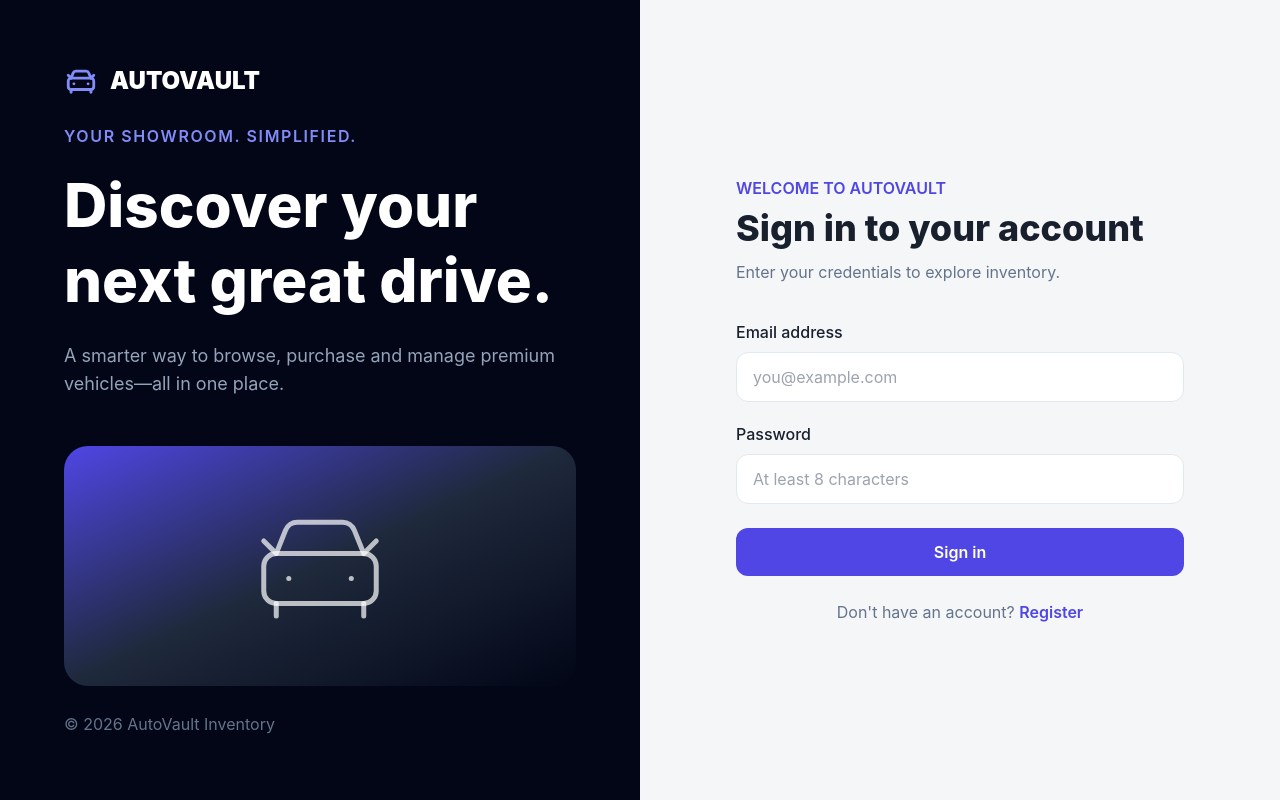
Test case: shows a useful error when login fails
The image size is (1280, 800).
Type "user@example.com" into the field labelled "Email address" at (960, 377), box [736,352,1184,402]
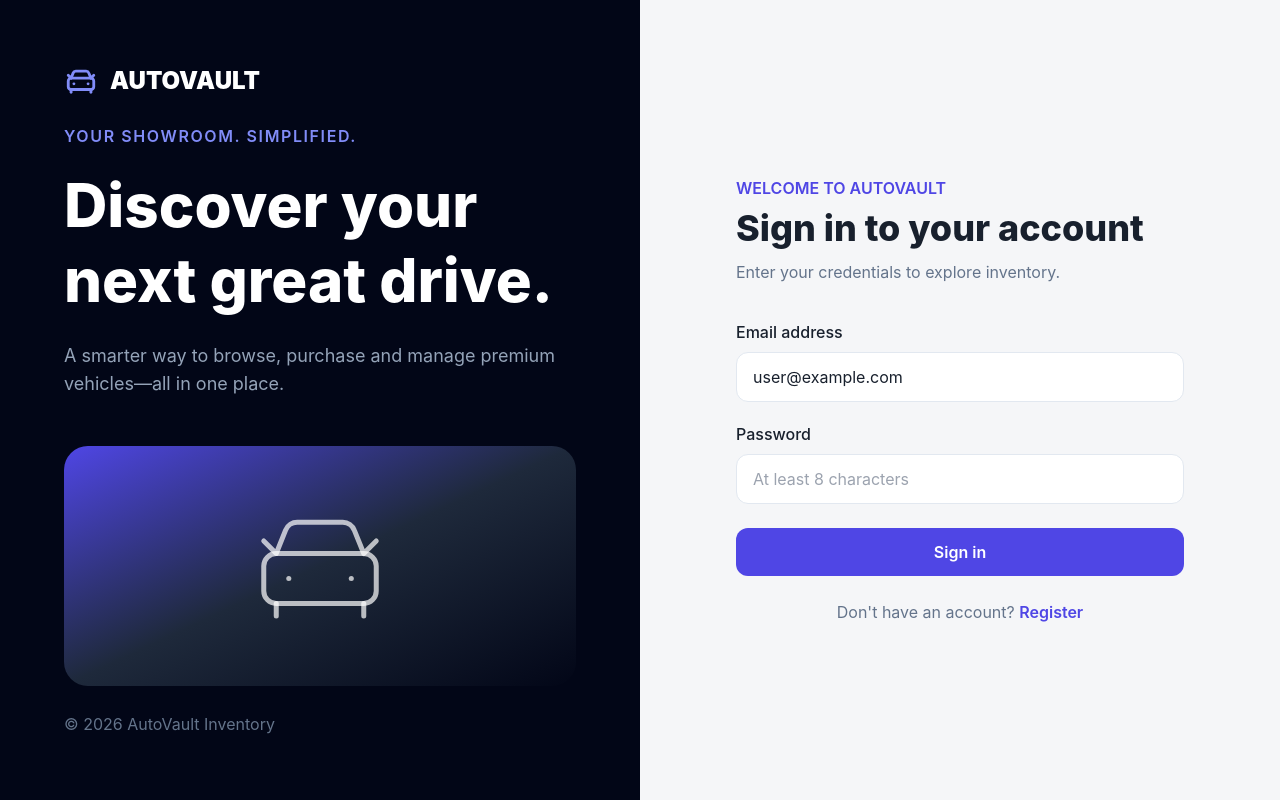
Type "incorrect1" into the password field labelled "Password" at (960, 479), box [736,454,1184,504]
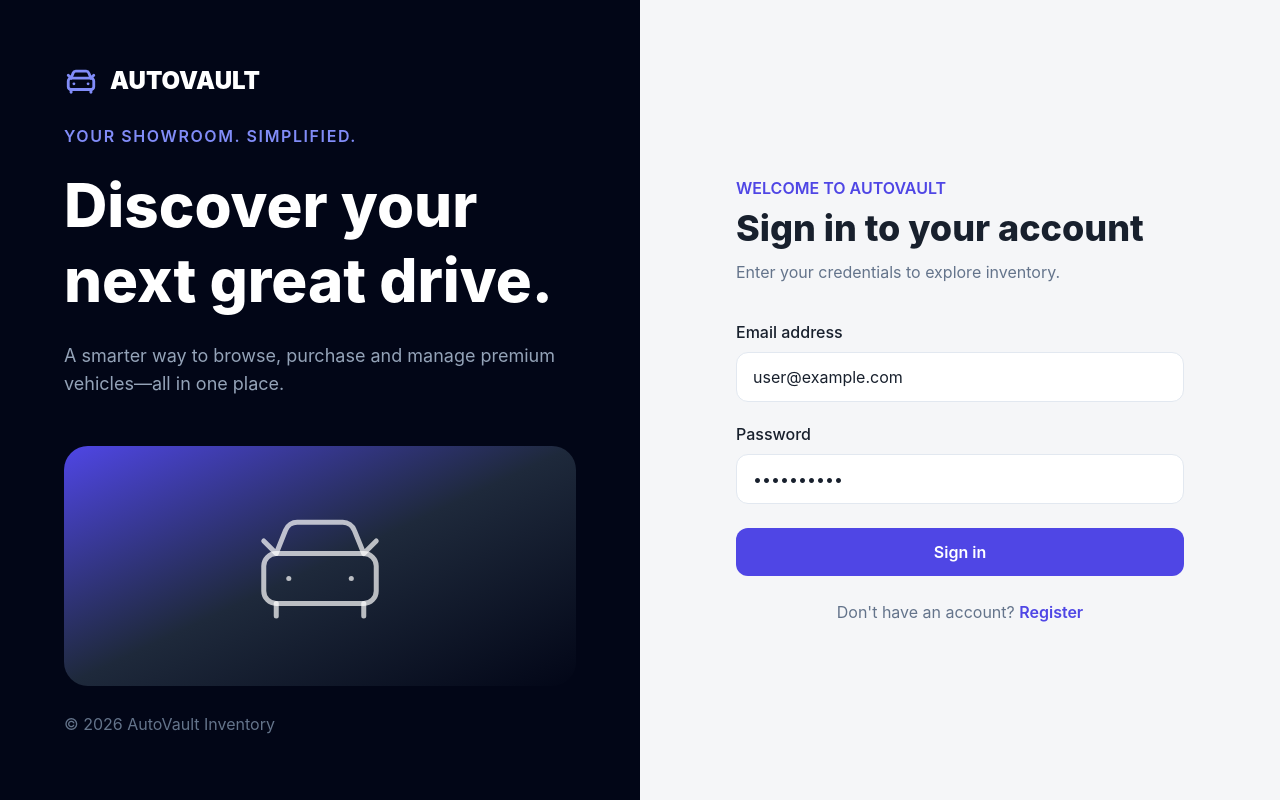
Click the button "Sign in" at (960, 552), box [736,528,1184,576]
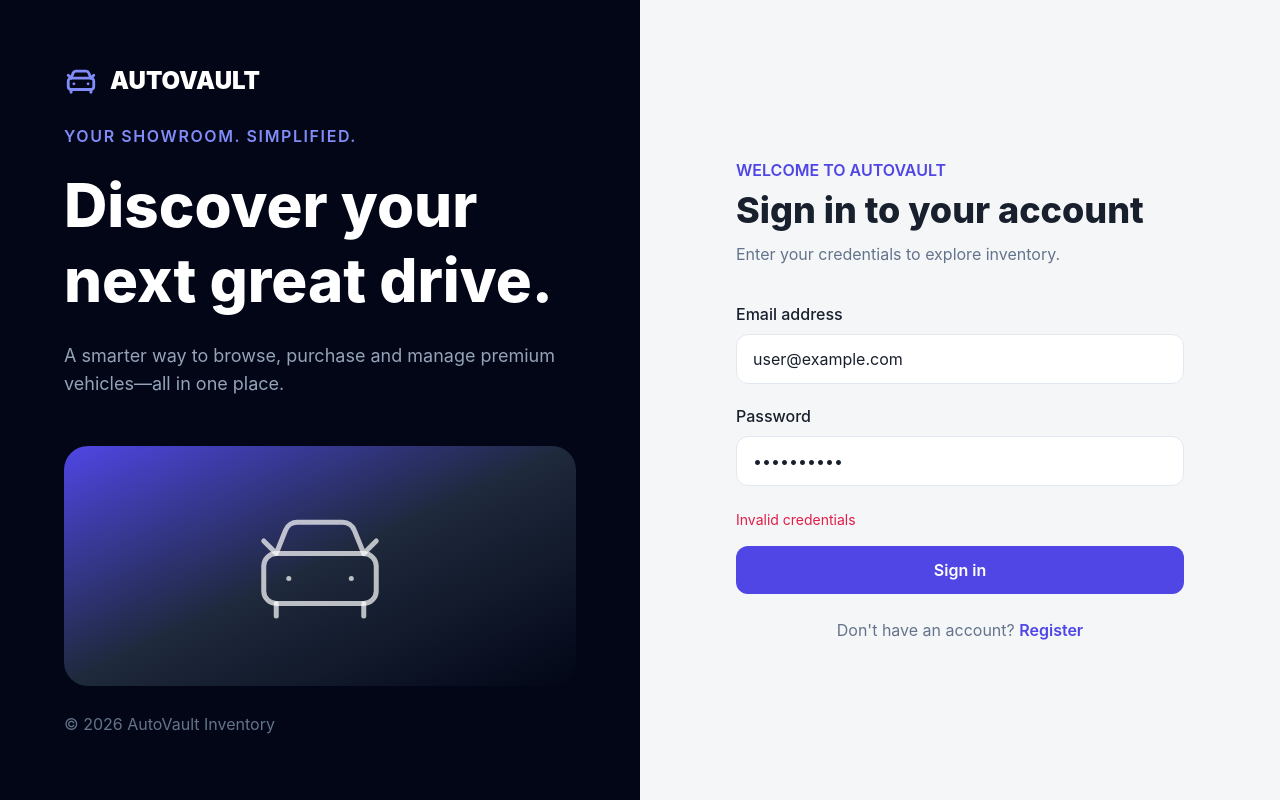
Check: the message reads "Invalid credentials", box [736,511,856,528]
